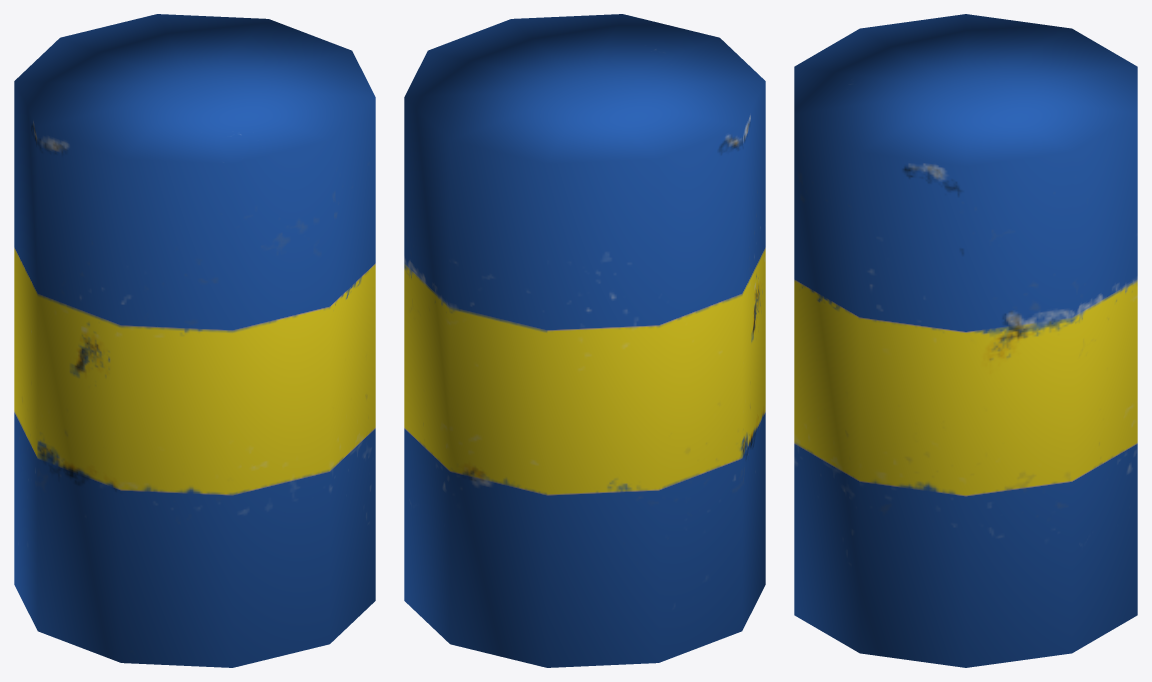
Rendered from barrelMetal.fbx.
The picture shows the model from 3 angles, left to right: view 1: azimuth 30°, elevation 25°; view 2: azimuth 150°, elevation 25°; view 3: azimuth 270°, elevation 25°; orthographic projection.
Visible parts, largest first — view 1: barrelMetal; view 2: barrelMetal; view 3: barrelMetal.
Boxes of the visible parts, box(x1,y1,x2,y2) form: barrelMetal: box(14, 14, 375, 667); barrelMetal: box(404, 14, 765, 667); barrelMetal: box(794, 14, 1137, 667).
Size of the model in its own units: 0.3862 by 0.5914 by 0.3673.
